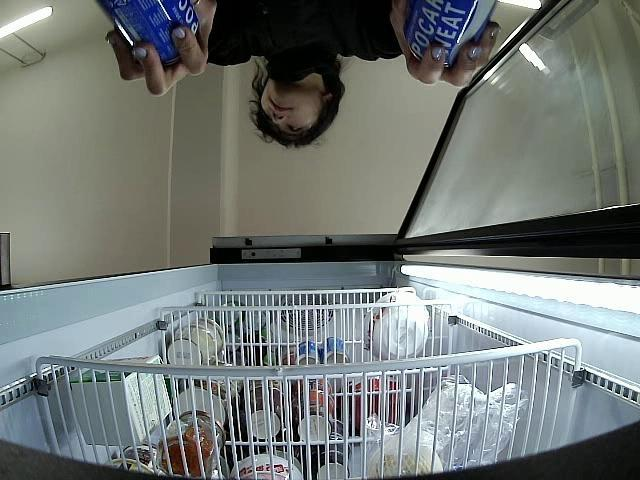13_pocariSweat: (94, 0, 200, 63), (406, 0, 496, 69)
